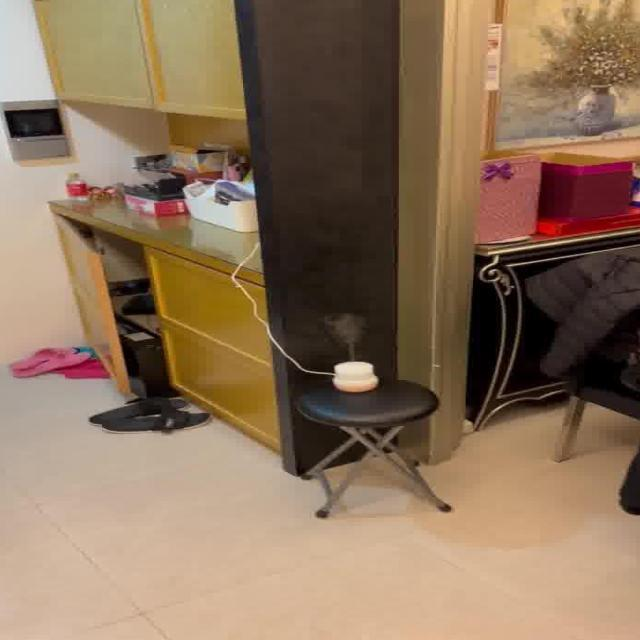fire: (316, 310, 377, 357)
